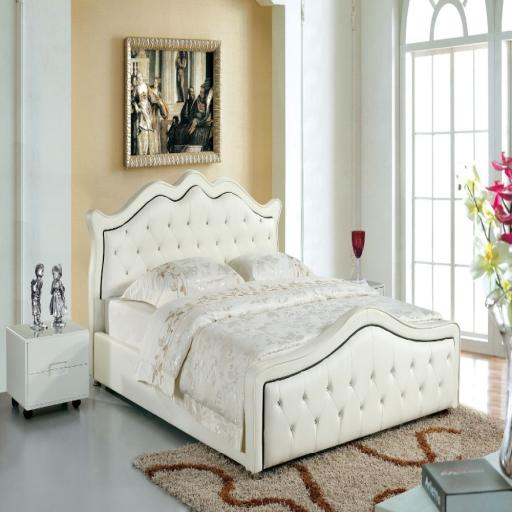bed: (86, 168, 461, 478)
